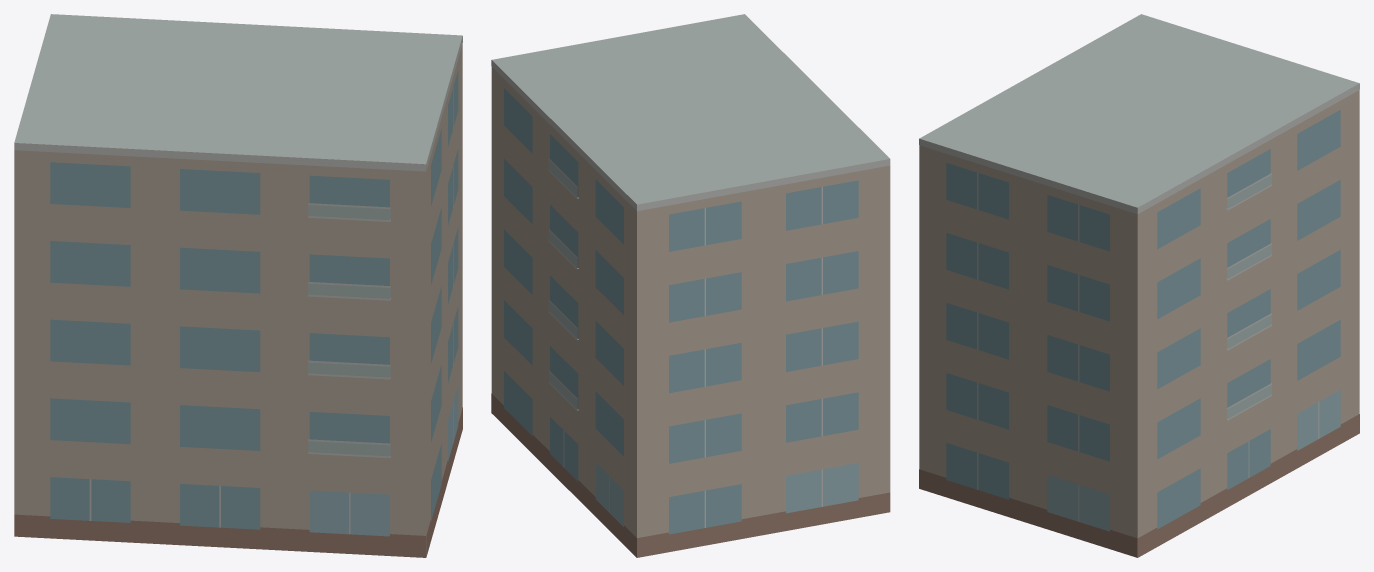
The model's file is survey-upis-32670696.glb.
3 views of the same model, side by side, from view 1: azimuth 30°, elevation 25°; view 2: azimuth 150°, elevation 25°; view 3: azimuth 270°, elevation 25° (orthographic). The views are drawn at different scales.
Visible parts, largest first — view 1: survey-upis-32670696.tmp; view 2: survey-upis-32670696.tmp; view 3: survey-upis-32670696.tmp.
Boxes of the visible parts, box(x1,y1,x2,y2) form: survey-upis-32670696.tmp: box(14, 14, 462, 557); survey-upis-32670696.tmp: box(491, 14, 890, 557); survey-upis-32670696.tmp: box(919, 14, 1359, 557).
Size of the model in its own units: 15.56 by 13.1 by 14.95.
